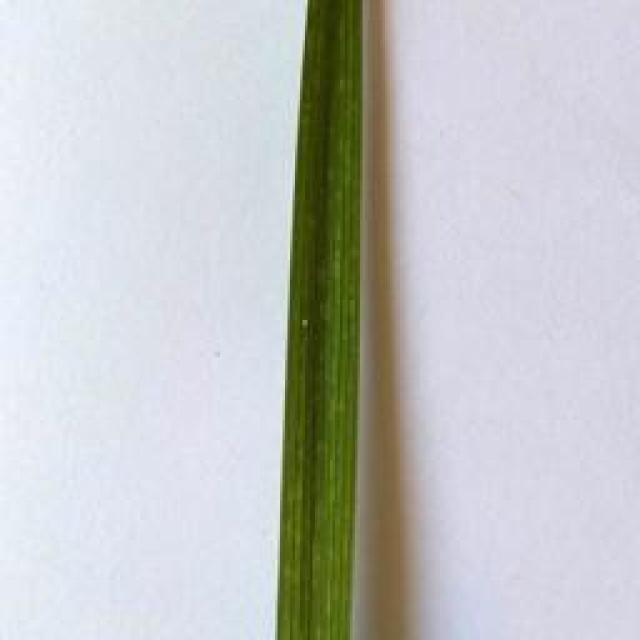Healthy-Plant: (272, 3, 366, 640)
